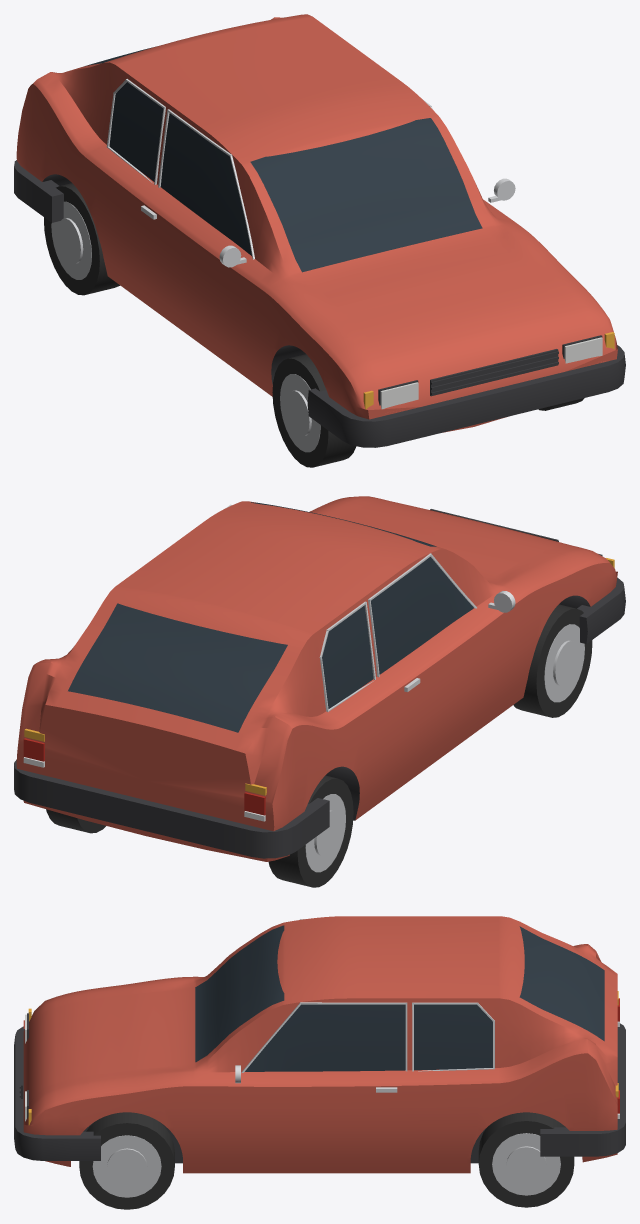
Rendered from peugeot205.glb.
3 renders of one model, top to bottom at view 1: azimuth 30°, elevation 25°; view 2: azimuth 150°, elevation 25°; view 3: azimuth 270°, elevation 25°, orthographic. The views are drawn at different scales.
Visible parts, largest first — view 1: paint, glass, trim, wheel_fr, wheel_rr, headlights, mirrors; view 2: paint, glass, trim, wheel_fr, wheel_rr, taillights, wheel_rl; view 3: paint, glass, trim, wheel_fl, wheel_rl.
Part boxes in pixels (x1,y1,x2,y2): paint: (16,14,617,432); glass: (86,46,482,272); trim: (14,79,625,447); wheel_fr: (272,354,356,467); wheel_rr: (44,183,119,295); headlights: (380,337,602,409); mirrors: (219,178,515,267); paint: (16,496,617,861); glass: (68,502,473,732); trim: (14,504,625,858); wheel_fr: (513,604,592,717); wheel_rr: (268,775,353,887); taillights: (23,738,265,815); wheel_rl: (46,809,105,833); paint: (23,916,617,1173); glass: (195,925,604,1071); trim: (14,919,625,1160); wheel_fl: (79,1112,174,1209); wheel_rl: (478,1112,574,1207).
Bounding box in the file's own units: 1.75 × 1.35 × 3.71.
